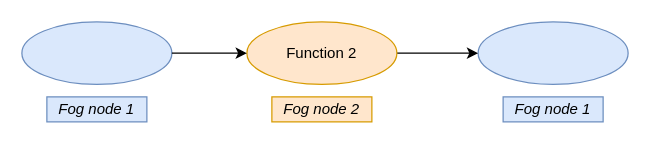
Some shapes in this 650 by 144 pixel diagram are drawn without their labels. Here are the shapes that lost their labels. From the top down, the centre of each, then its label:
At (96,52): "Function 1".
At (552,52): "Function 3".
